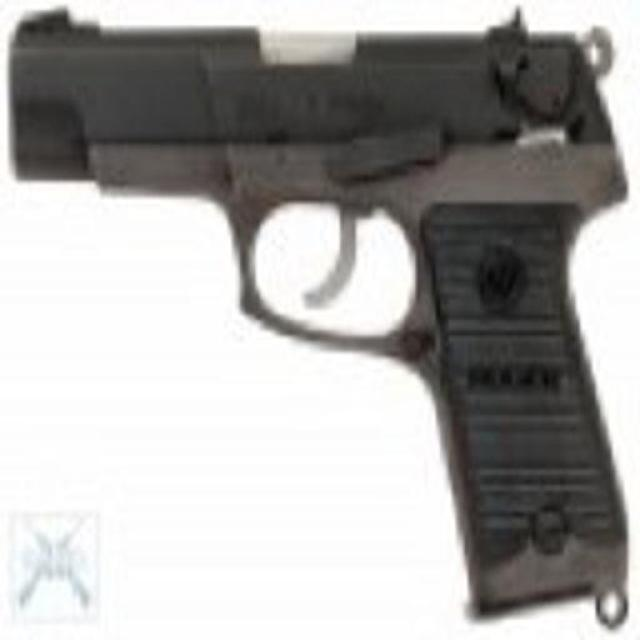pistol: (4, 5, 620, 602)
